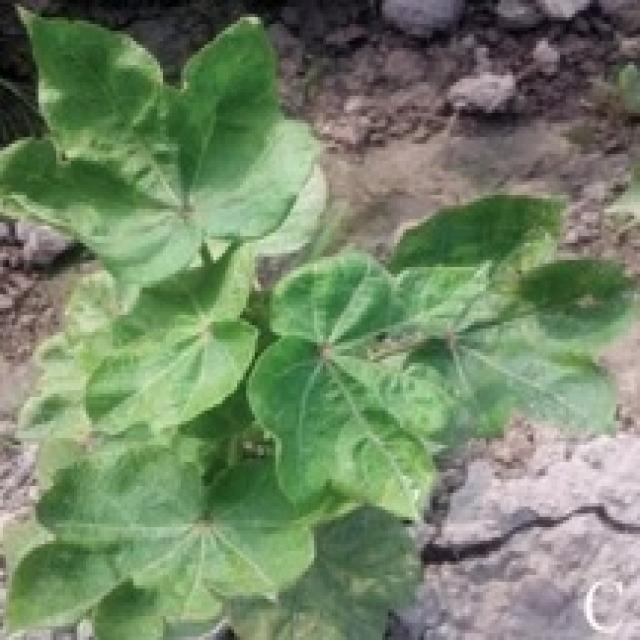Leaf Curl Virus: (87, 134, 526, 559)
